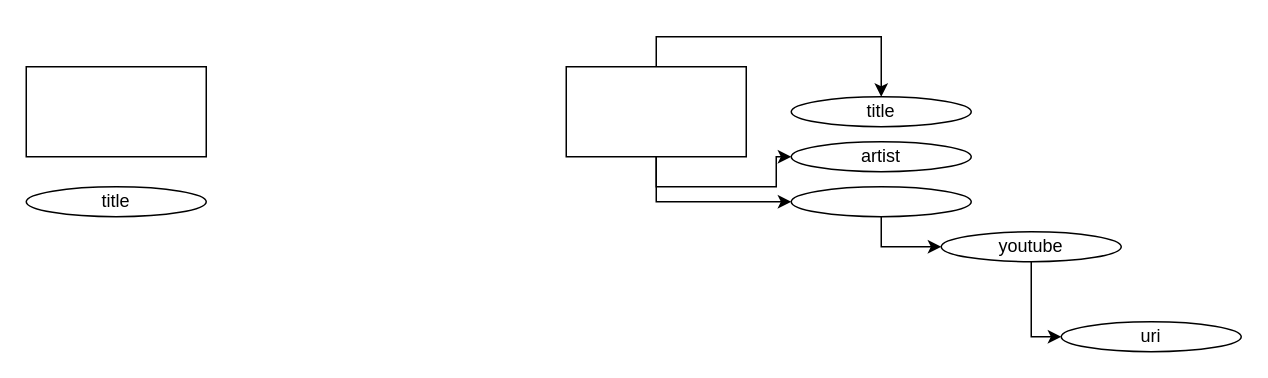
This 1268x378 diagram has some shape labels left out. Each missing label, with the centre of its shape:
artists: [115,111]
external: [880,201]
songs: [655,111]
